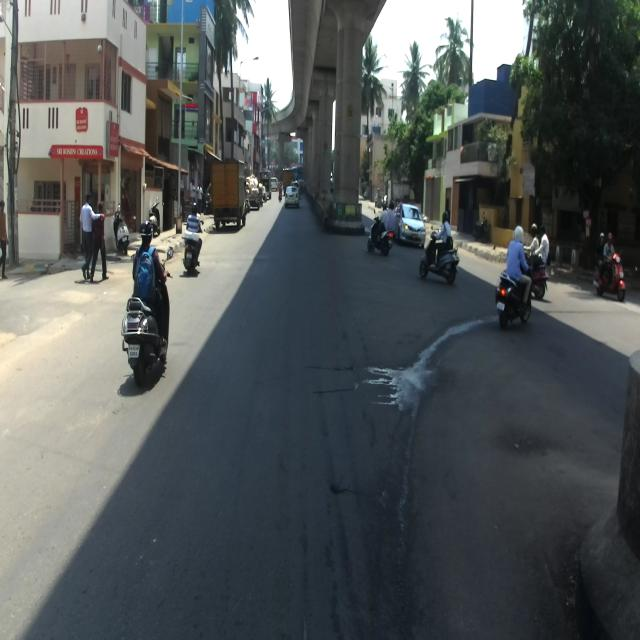car ahead at: (209, 158, 250, 230)
motorcycle ahead at: (118, 295, 173, 383)
person ahead at: (74, 190, 110, 286)
